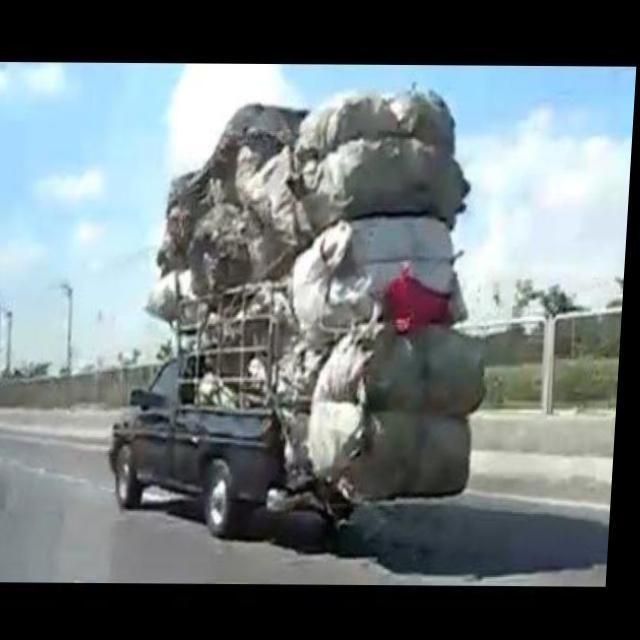uncovered: (144, 69, 506, 534)
